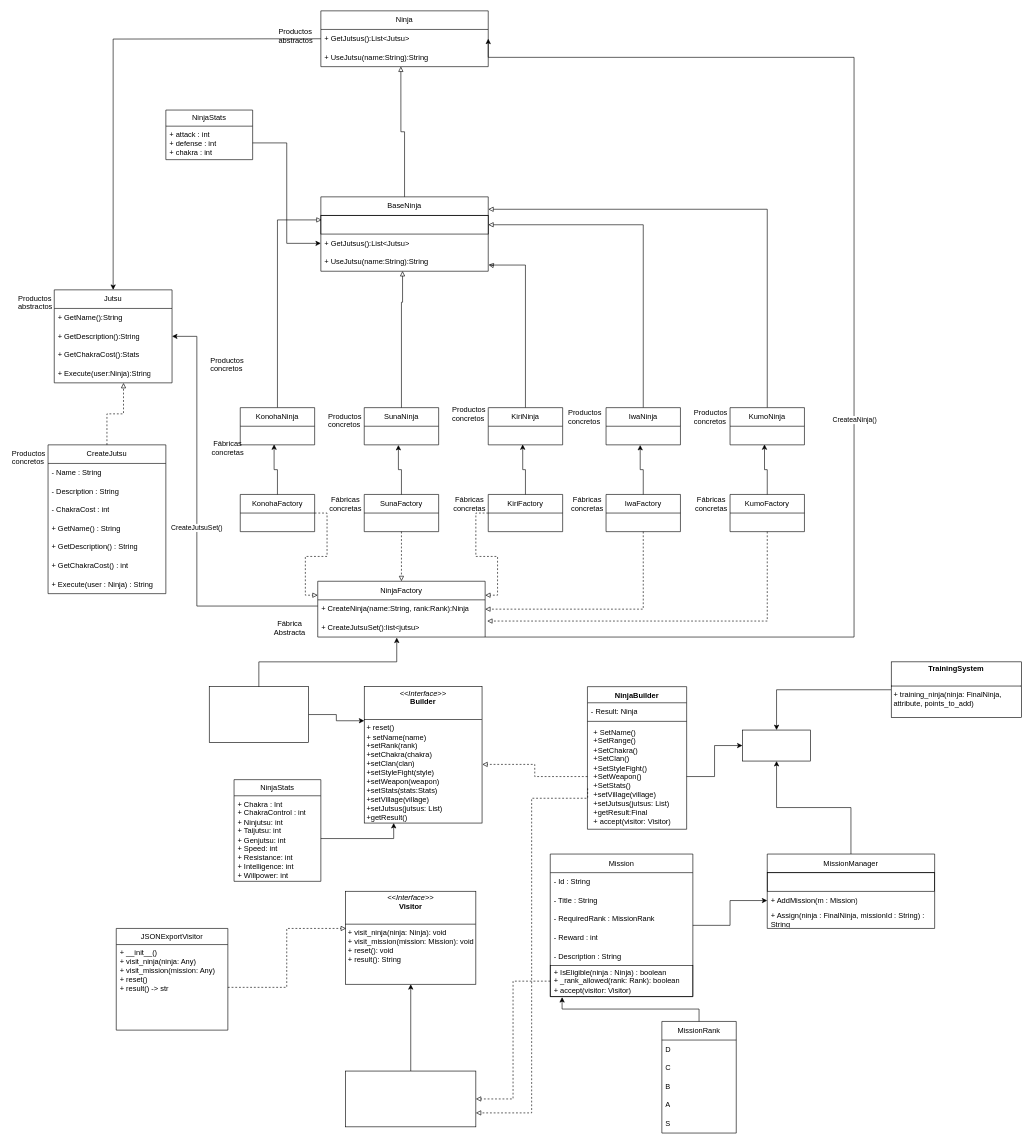
The diagram is 1032 pixels wide and 1144 high, and some of its shapes have lost their labels. Each missing label, with the centre of its shape:
"- Jutsus : List<Jutsu>" belongs at point 404,224.
"- Missions : List<Mission>" belongs at point 851,881.
"<<Interface>> Element + accept(visitor: Visitor)" belongs at point 410,1098.
"Director + factory: NinjaFactory + makeNinja(builer)" belongs at point 258,714.
"FinalNinja" belongs at point 776,745.
